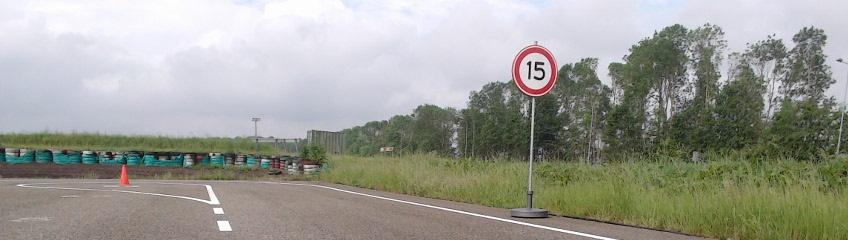Speed-limit-15km-h-: (511, 45, 558, 96)
